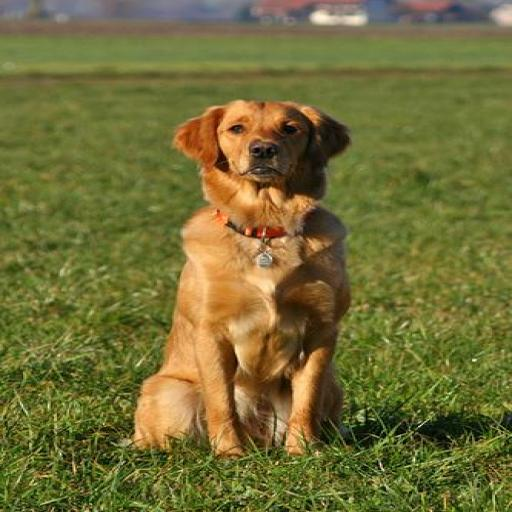dog_face: (176, 93, 344, 189)
